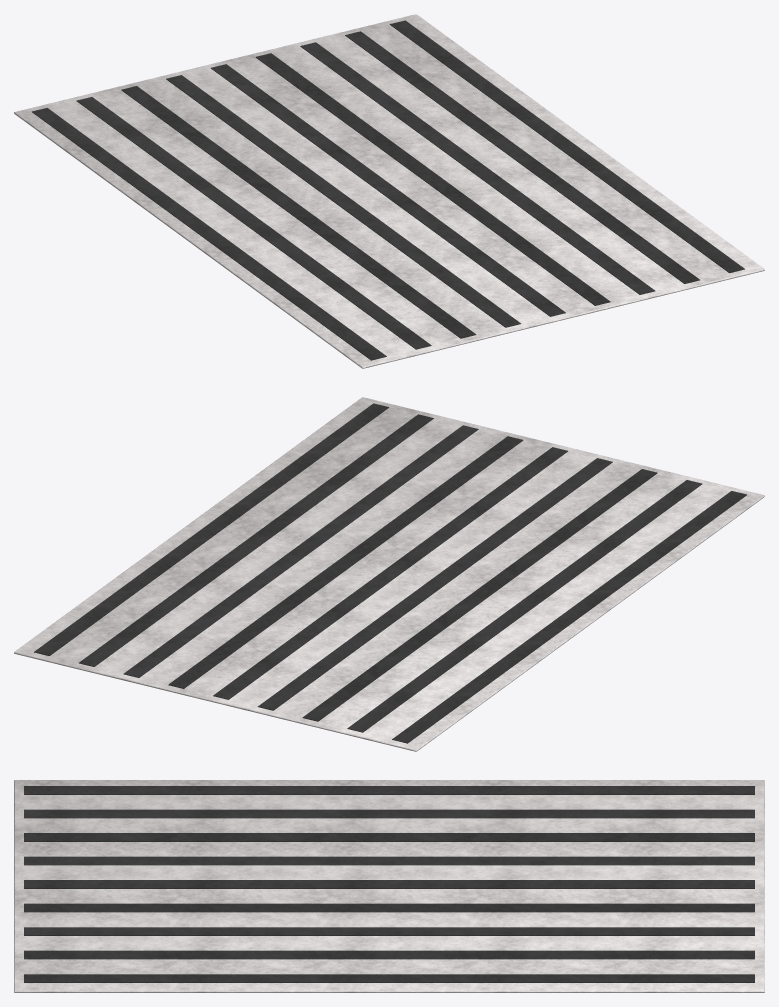
File: lounge.rug-pattern.glb
3 views of the same model, one above another, from view 1: azimuth 30°, elevation 25°; view 2: azimuth 150°, elevation 25°; view 3: azimuth 270°, elevation 25° (orthographic). The views are drawn at different scales.
Visible parts, largest first — view 1: lounge.rug-pattern.001; view 2: lounge.rug-pattern.001; view 3: lounge.rug-pattern.001.
Part boxes in pixels (<box>): lounge.rug-pattern.001: <box>14,14,764,368</box>; lounge.rug-pattern.001: <box>14,397,764,751</box>; lounge.rug-pattern.001: <box>14,780,764,992</box>.
Size of the model in its own units: 2 by 0.012 by 3.
2 materials, 2 textured.
